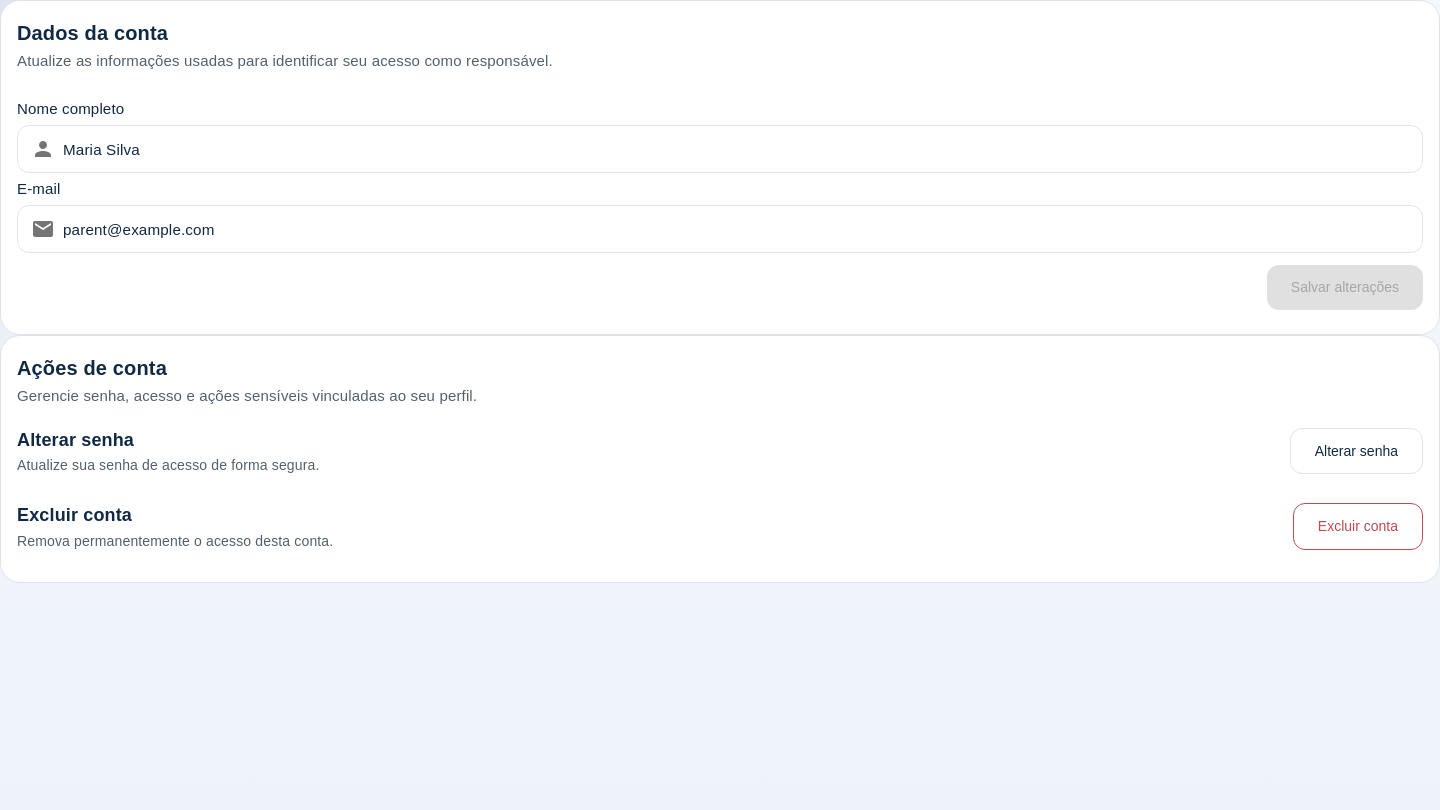
Test: AccountSettings save button enables after editing a field
Replace the text in the field showing "Maria Silva" with "Novo Nome" at (743, 149), box [63,122,1423,176]
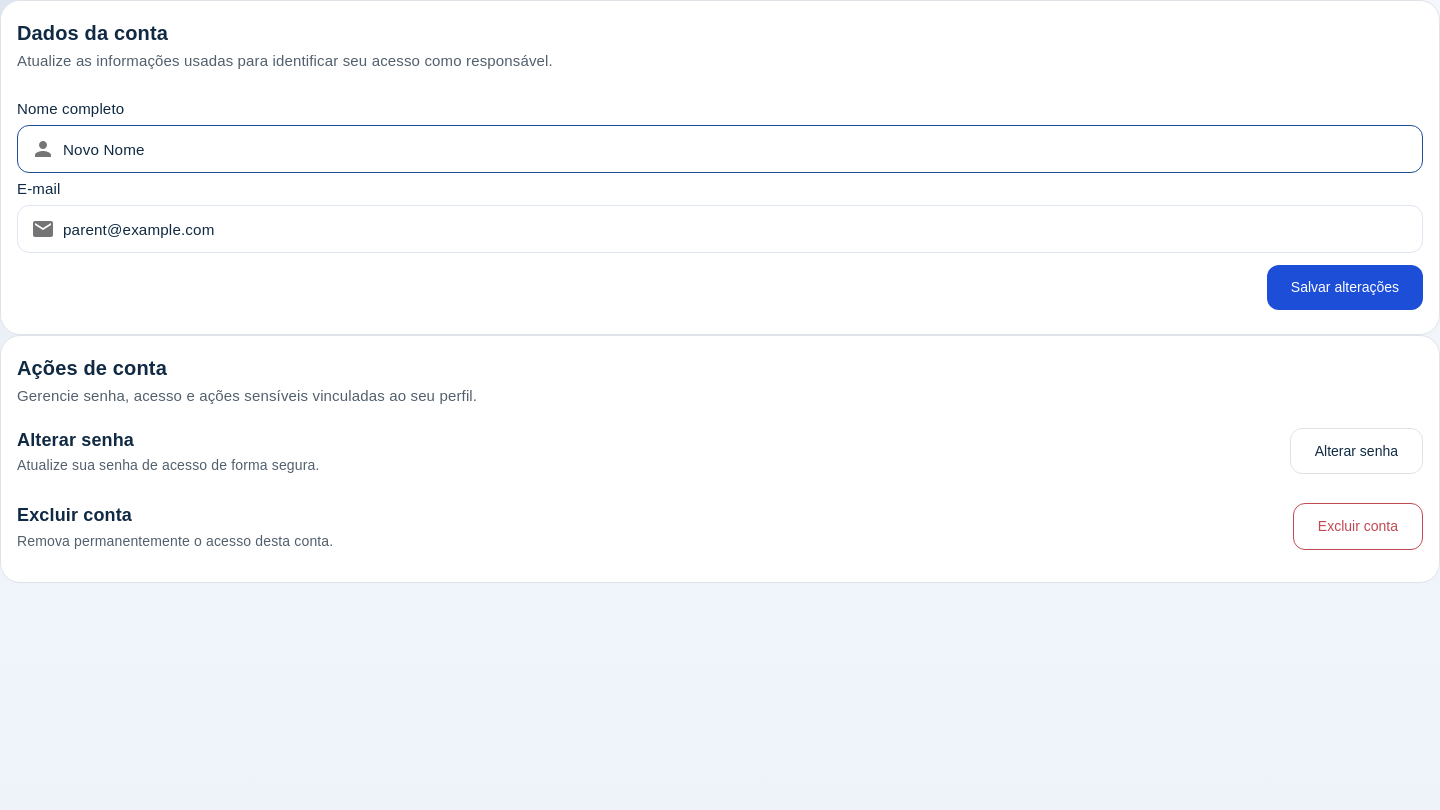
Now the button "Salvar alterações" is enabled, box [1267,265,1423,310]
